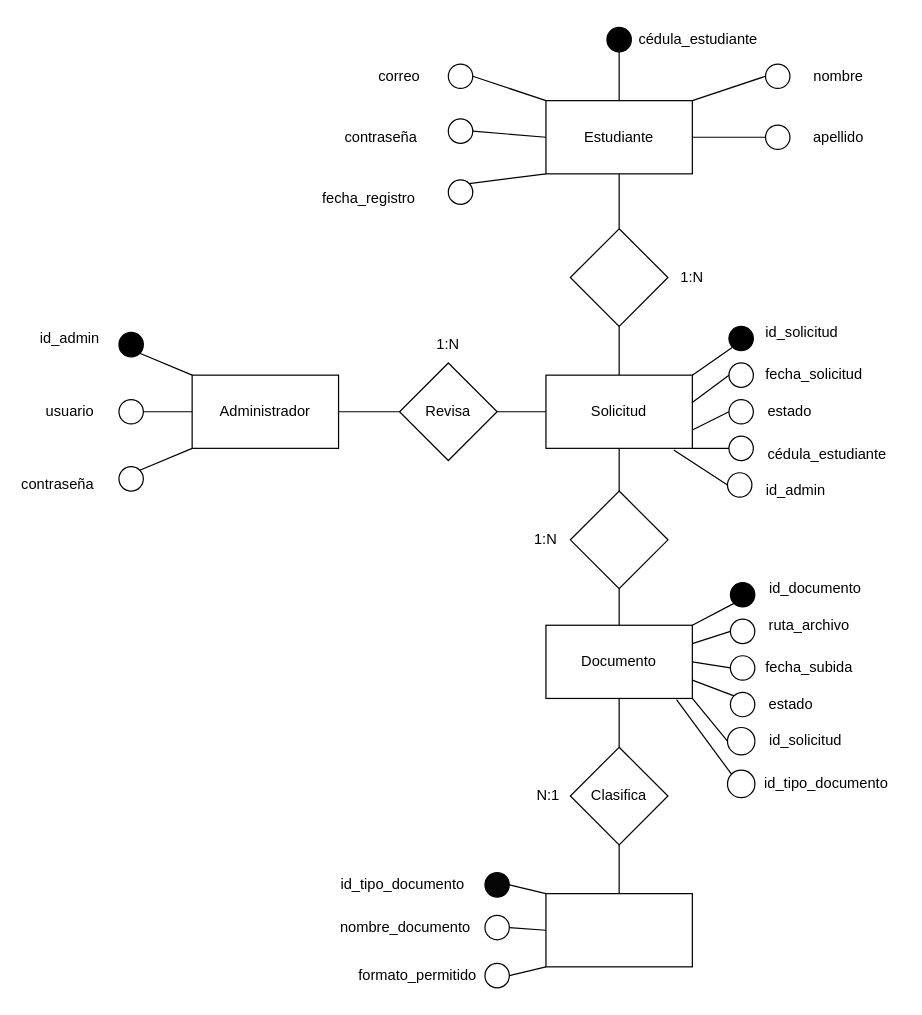
The diagram is 922 pixels wide and 1015 high, and some of its shapes have lost their labels. The centre of each missing label's shape, as x and y in pixels:
"Adjunta" belongs at pixel 618 539.
"Realiza" belongs at pixel 618 277.
"Tipo_Documento" belongs at pixel 618 929.
